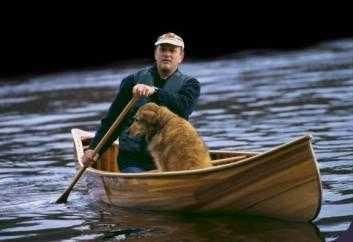kayak: (72, 132, 322, 223)
